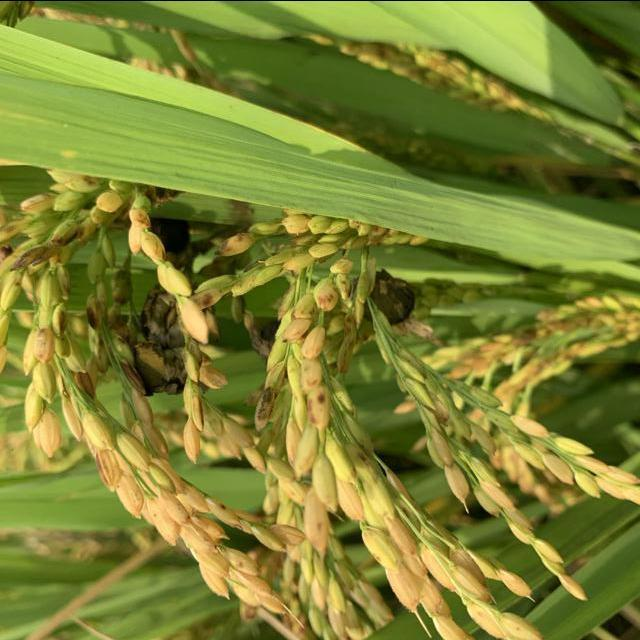Leaf_Scald: (126, 284, 188, 399), (350, 268, 418, 326), (132, 212, 192, 260)
